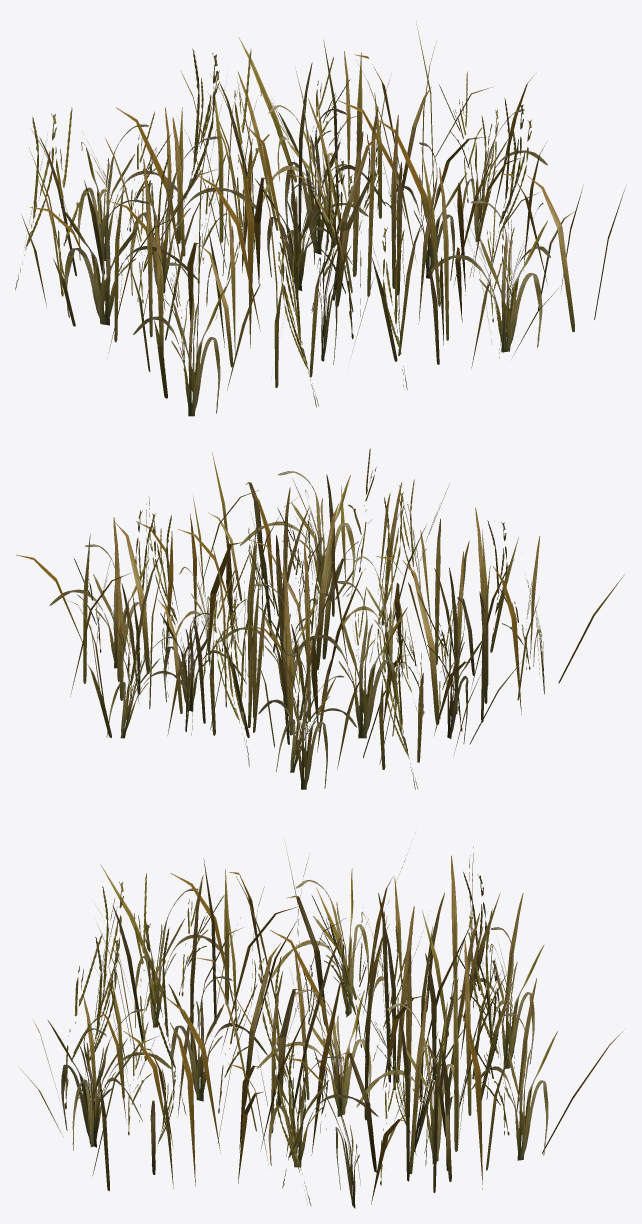
File: Inst_grass02.fbx
3 renders of one model, top to bottom at view 1: azimuth 30°, elevation 25°; view 2: azimuth 150°, elevation 25°; view 3: azimuth 270°, elevation 25°, orthographic. The views are drawn at different scales.
Parts seen in each view (by area): view 1: SM_COM_FieldGrass_01.mo; view 2: SM_COM_FieldGrass_01.mo; view 3: SM_COM_FieldGrass_01.mo.
Boxes of the visible parts, <box> form: SM_COM_FieldGrass_01.mo: <box>15,21,625,416</box>; SM_COM_FieldGrass_01.mo: <box>16,448,624,789</box>; SM_COM_FieldGrass_01.mo: <box>18,842,622,1208</box>.
Size of the model in its own units: 115 by 46.24 by 114.
